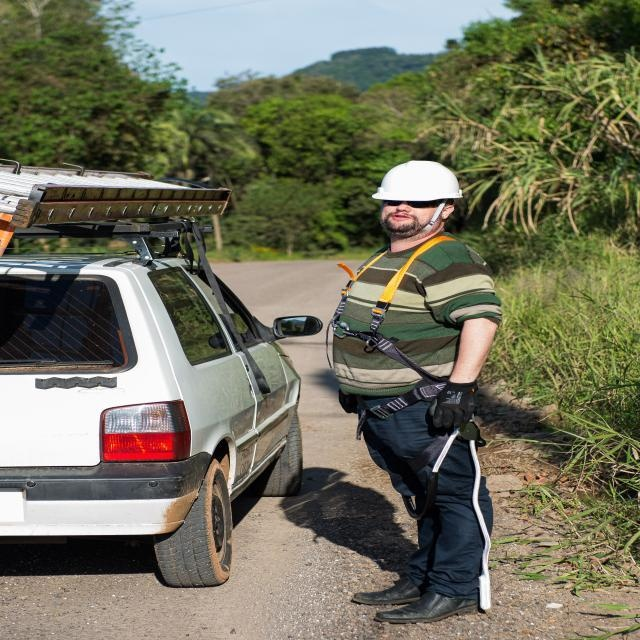Arnes_seguridad: (324, 228, 484, 478)
